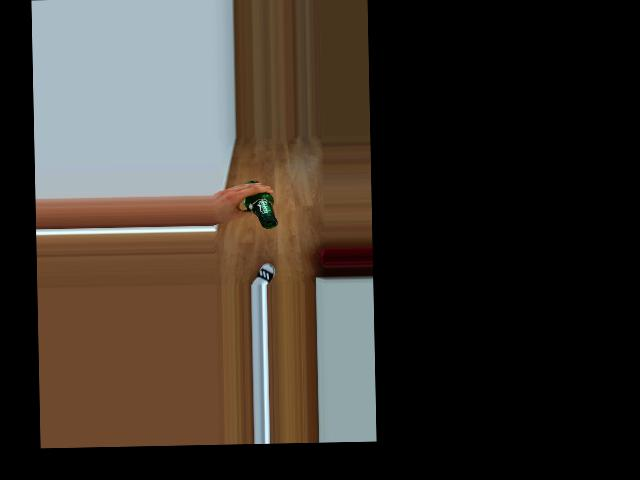beer: (243, 180, 278, 229)
